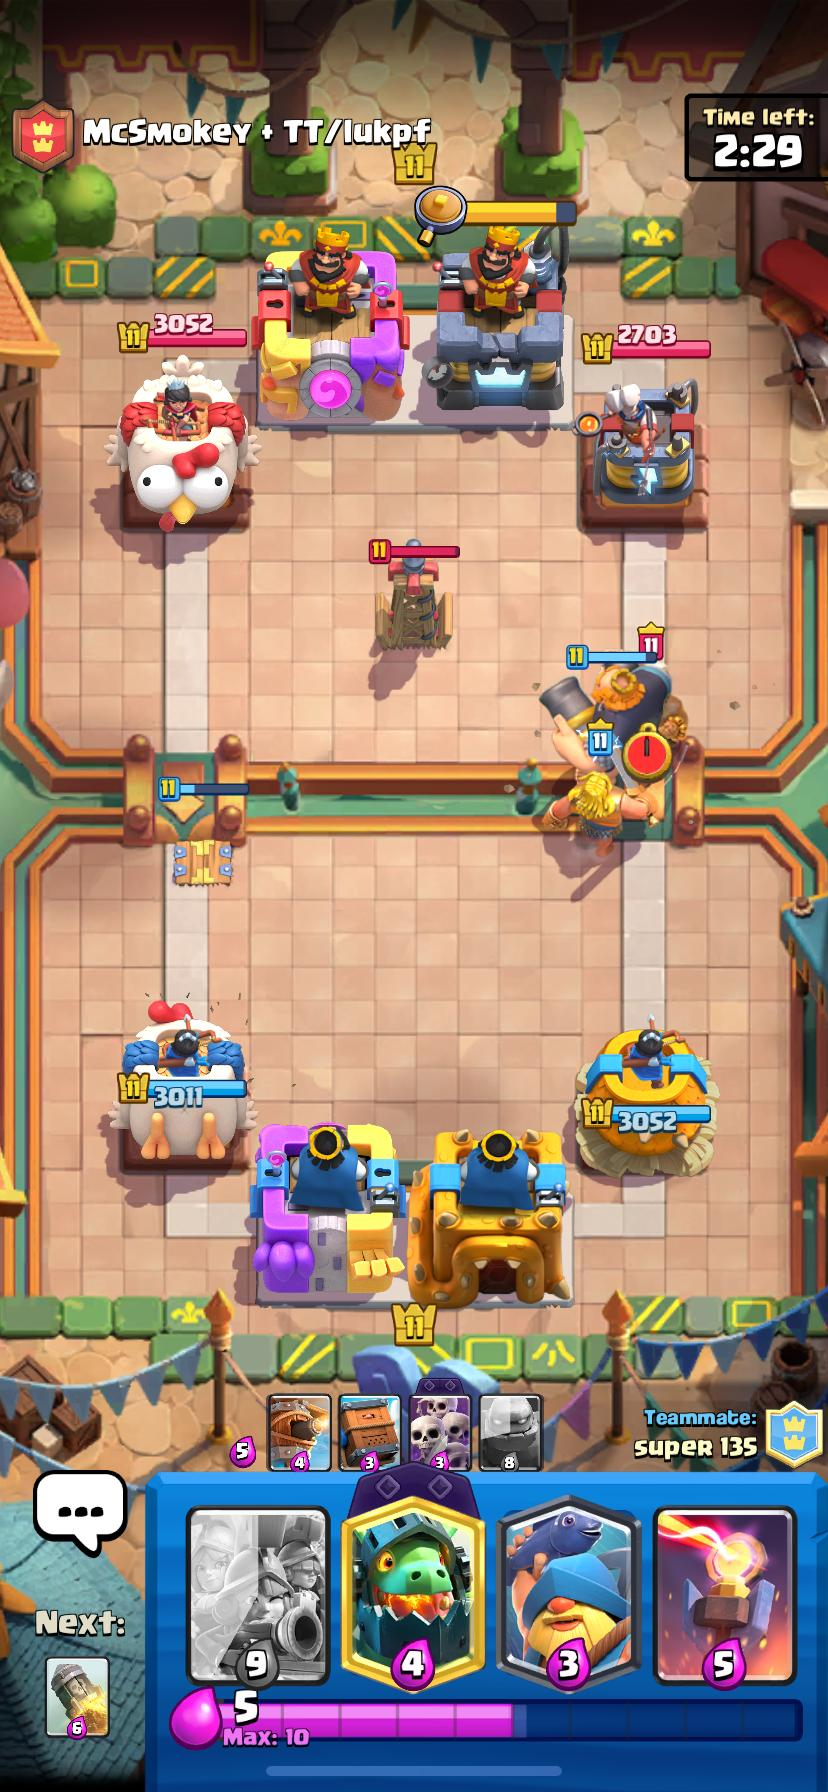EKingTower: (253, 225, 407, 419), (423, 226, 567, 411)
ETesla: (375, 549, 451, 649)
EnemyPrincessTower: (109, 358, 258, 529), (578, 379, 696, 522)
ORoyalKnight: (534, 770, 656, 856)
OTesla: (541, 667, 670, 741), (172, 840, 232, 885)
OwnKingTower: (408, 1129, 572, 1305), (252, 1123, 403, 1302)
OwnPrincessTower: (109, 1001, 256, 1159), (576, 1017, 717, 1175)
